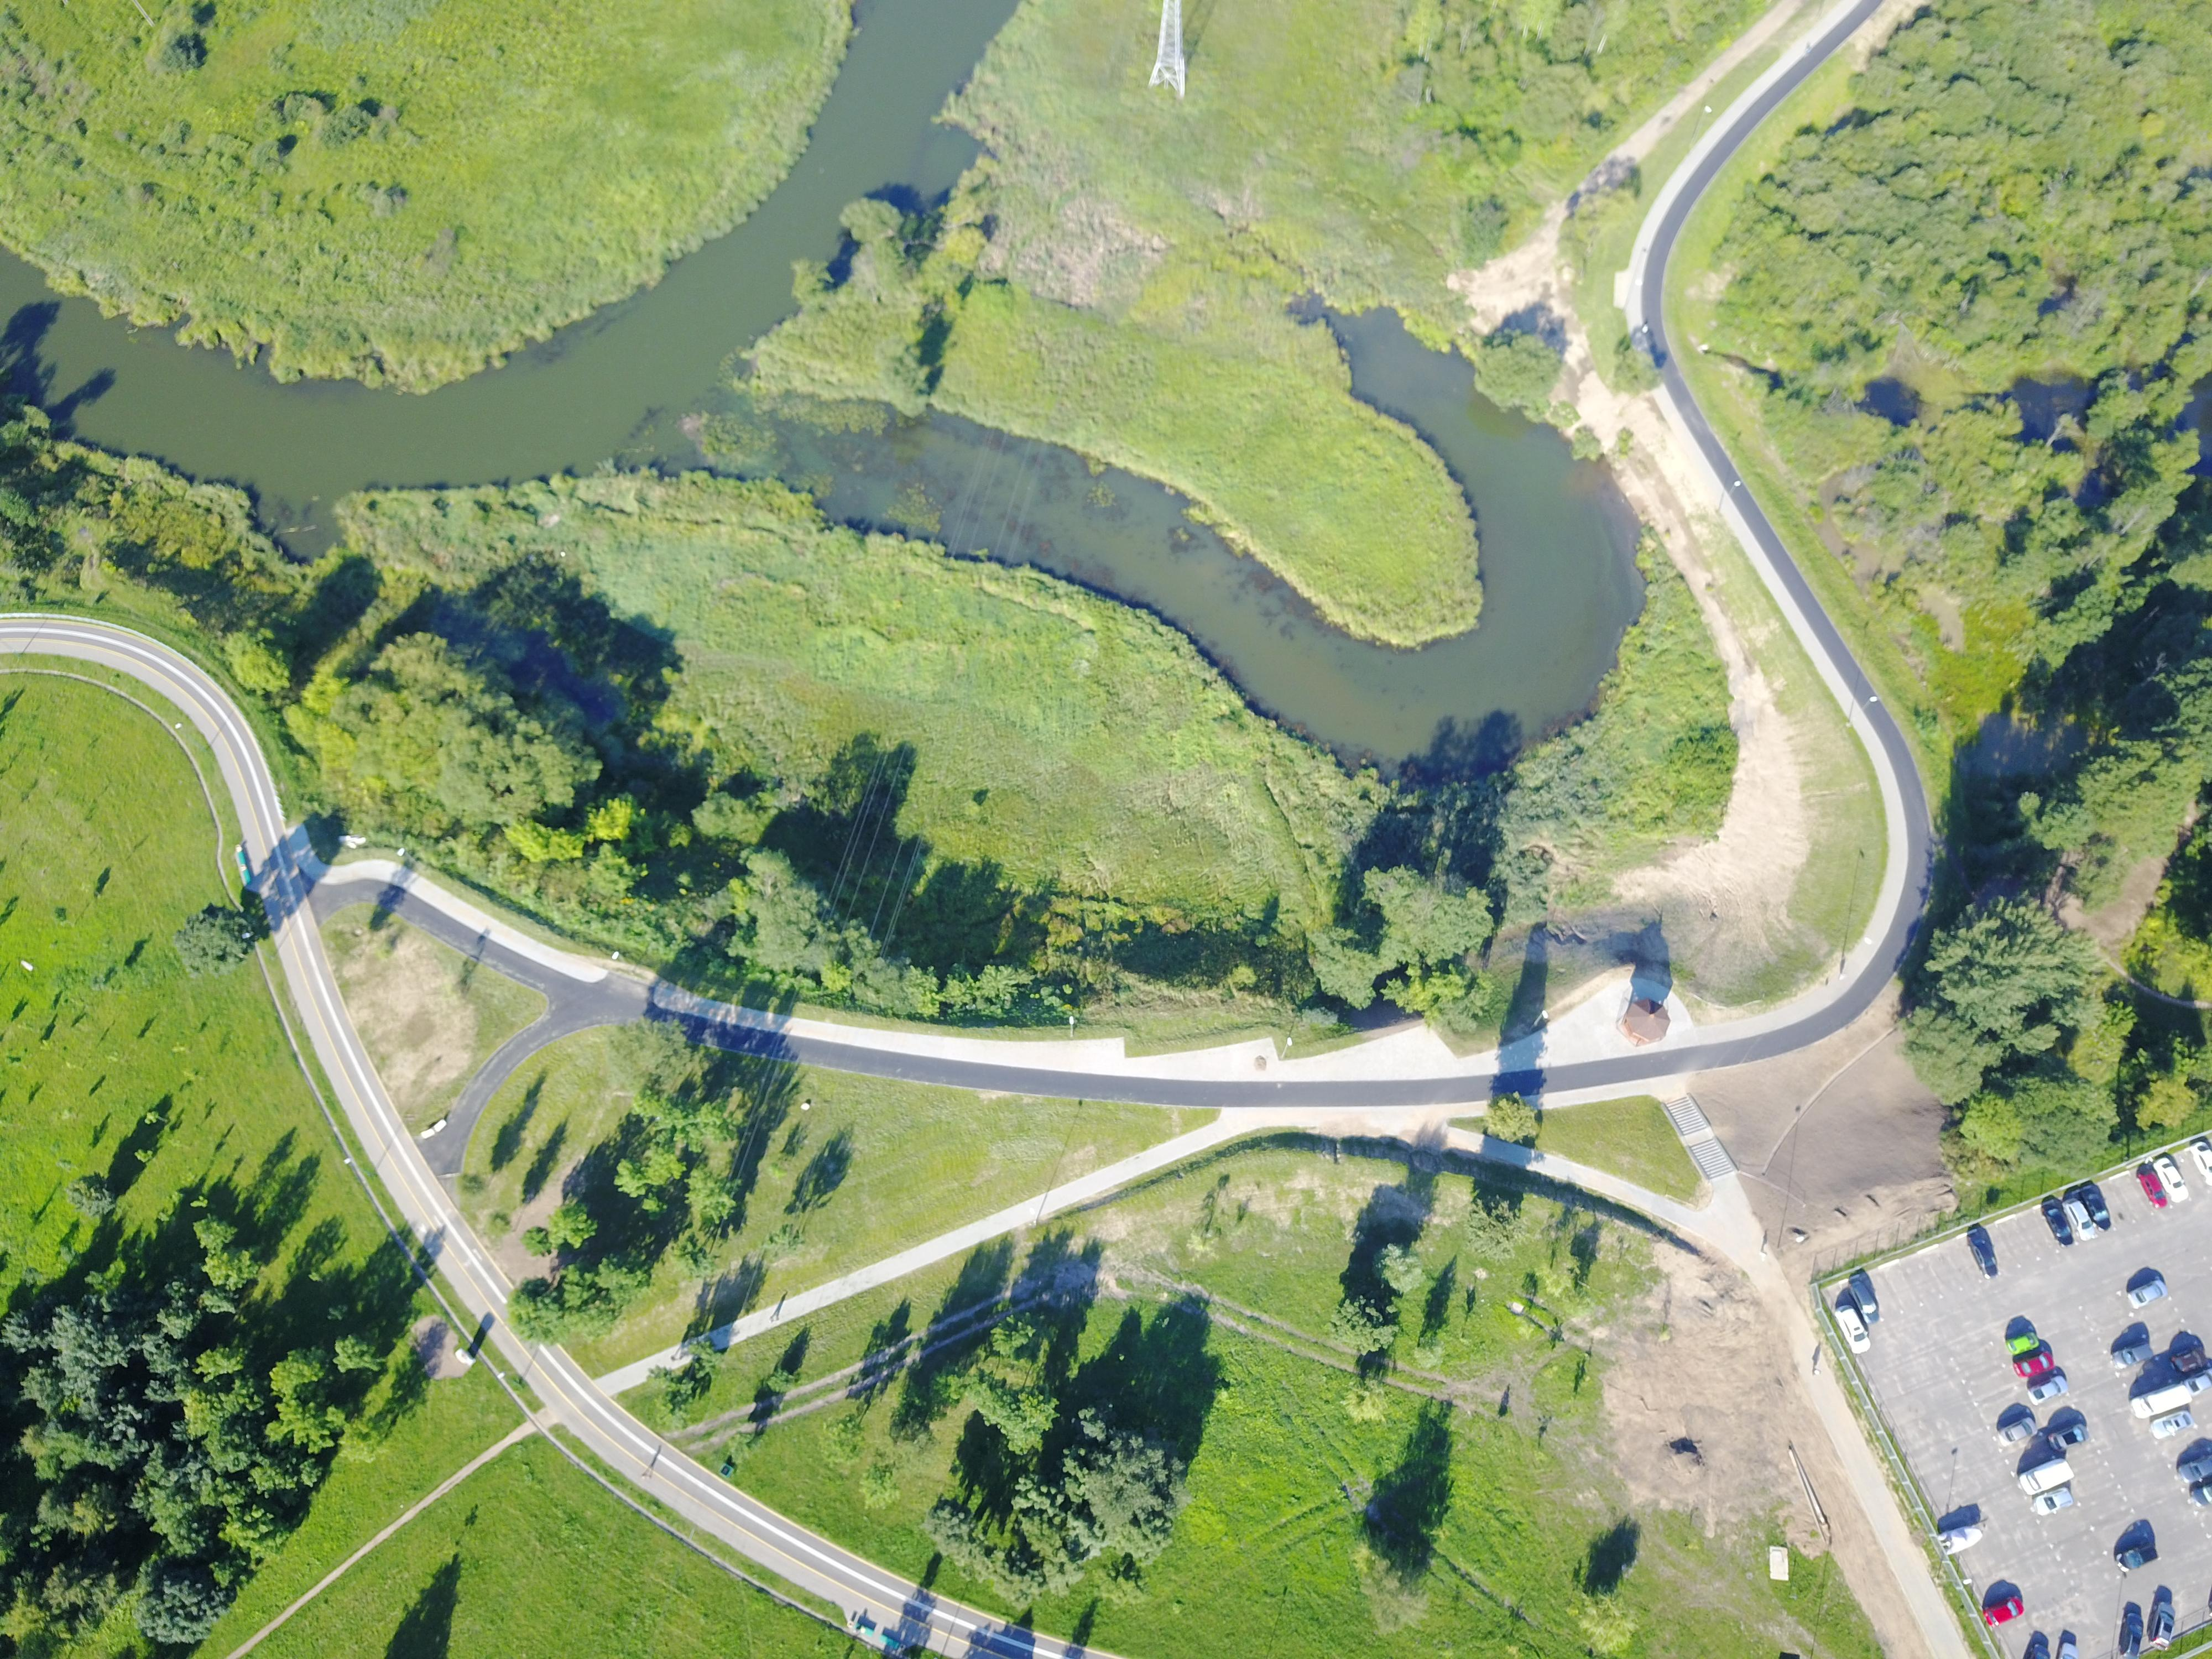car: (1833, 1303, 1872, 1355), (1965, 1226, 2000, 1280), (2038, 1199, 2076, 1247), (2153, 1156, 2190, 1203), (2078, 1182, 2111, 1232), (2148, 1602, 2179, 1651), (1848, 1280, 1881, 1325), (2062, 1197, 2095, 1241), (2149, 1409, 2193, 1440), (2137, 1164, 2168, 1208), (2026, 1374, 2067, 1405), (1984, 1596, 2025, 1627), (2116, 1543, 2158, 1572), (2127, 1279, 2167, 1309), (1996, 1417, 2037, 1447), (2118, 1612, 2146, 1656), (2033, 1486, 2074, 1516), (2048, 1423, 2090, 1451), (2012, 1352, 2055, 1378), (2111, 1343, 2153, 1370), (2170, 1348, 2206, 1377), (2006, 1331, 2038, 1355)
